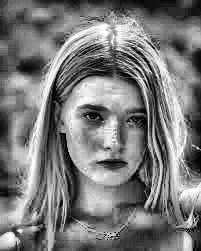sad: (58, 96, 167, 189)
